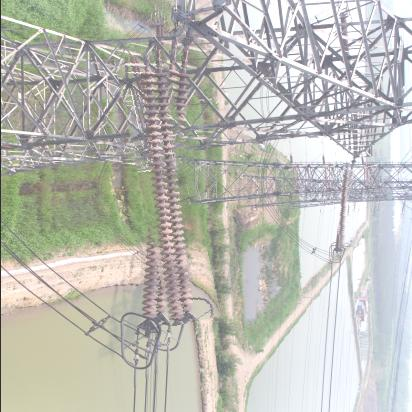insulator: (127, 51, 207, 326), (334, 165, 357, 249)
